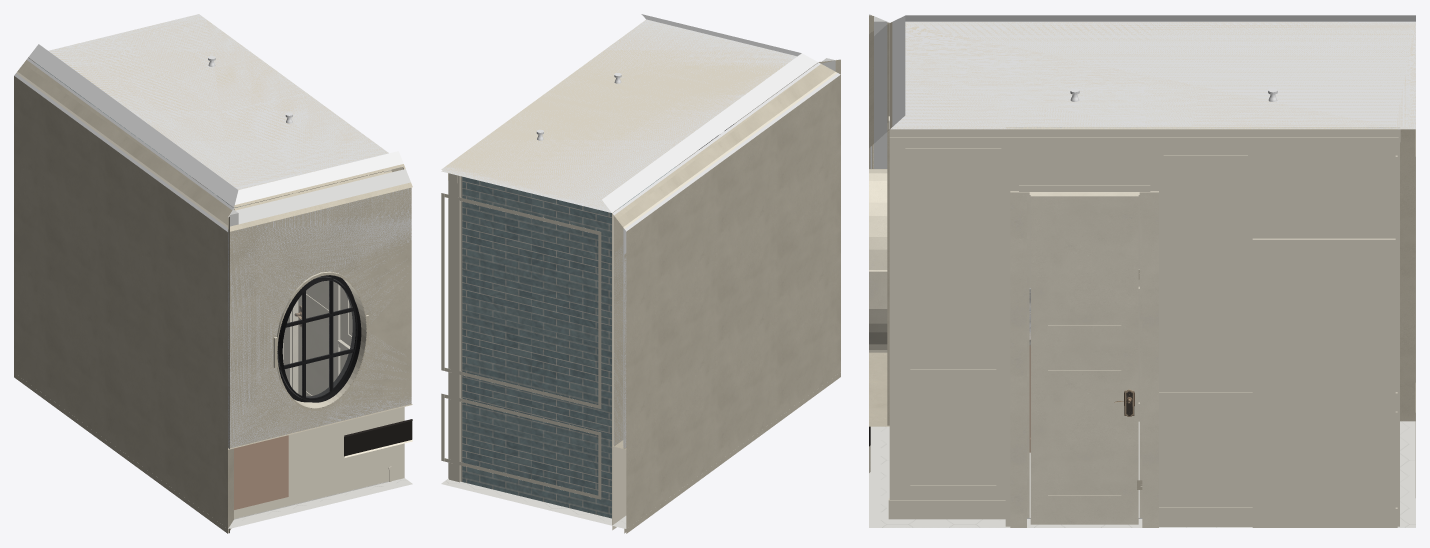
The model's file is blue-bath-d5b67d9eb3cf.glb.
3 renders of one model, left to right at view 1: azimuth 30°, elevation 25°; view 2: azimuth 150°, elevation 25°; view 3: azimuth 270°, elevation 25°, orthographic. The views are drawn at different scales.
Parts seen in each view (by area): view 1: blue-bath-312b4ac1be39223d, blue-bath-bddaf205afbd60c0, blue-bath-9d91b47435c6fb33, blue-bath-e8793759323e04f0, blue-bath-33ee0b466567e5f0, blue-bath-df3e1f21720b0c39, blue-bath-2f7d8eff34a2c180, blue-bath-99b308e00d07c4e6, blue-bath-39b94aca90fa4b53, blue-bath-c700045fb7c0d89d, blue-bath-bb2a37e95c56944b, blue-bath-bf159a19de53e60e (+9 smaller); view 2: blue-bath-312b4ac1be39223d, blue-bath-81319d6284883901, blue-bath-e8793759323e04f0, blue-bath-9d91b47435c6fb33, blue-bath-33ee0b466567e5f0, blue-bath-39b94aca90fa4b53, blue-bath-ed5fdcd3ee9c0dd5, blue-bath-3a4d9d62ecd7be1c, blue-bath-06754748489735a0, blue-bath-6e269356ae8bfd70, blue-bath-b63ee86b16afd4c0, blue-bath-0e16aad907f7d881 (+1 smaller); view 3: blue-bath-9d91b47435c6fb33, blue-bath-ed5fdcd3ee9c0dd5, blue-bath-ead09a0b3f9e3bd9, blue-bath-3e649b0d114ae387, blue-bath-bf159a19de53e60e, blue-bath-e8793759323e04f0, blue-bath-8798d08755b4aa77, blue-bath-8f5d8501f6e548f5, blue-bath-0e16aad907f7d881, blue-bath-6e269356ae8bfd70, blue-bath-5d66057253f4bb38, blue-bath-e55ba151bf6688a8 (+13 smaller).
Boxes of the visible parts, bbox=[...] form: blue-bath-312b4ac1be39223d: bbox=[14, 73, 229, 449]; blue-bath-bddaf205afbd60c0: bbox=[230, 182, 411, 447]; blue-bath-9d91b47435c6fb33: bbox=[28, 14, 404, 207]; blue-bath-e8793759323e04f0: bbox=[30, 14, 403, 204]; blue-bath-33ee0b466567e5f0: bbox=[14, 293, 228, 533]; blue-bath-df3e1f21720b0c39: bbox=[229, 184, 412, 448]; blue-bath-2f7d8eff34a2c180: bbox=[228, 404, 412, 533]; blue-bath-99b308e00d07c4e6: bbox=[278, 277, 354, 397]; blue-bath-39b94aca90fa4b53: bbox=[17, 60, 238, 226]; blue-bath-c700045fb7c0d89d: bbox=[277, 275, 366, 402]; blue-bath-bb2a37e95c56944b: bbox=[234, 435, 288, 509]; blue-bath-bf159a19de53e60e: bbox=[298, 183, 335, 396]; blue-bath-312b4ac1be39223d: bbox=[624, 59, 840, 449]; blue-bath-81319d6284883901: bbox=[462, 177, 611, 518]; blue-bath-e8793759323e04f0: bbox=[441, 14, 815, 210]; blue-bath-9d91b47435c6fb33: bbox=[442, 19, 817, 212]; blue-bath-33ee0b466567e5f0: bbox=[612, 293, 840, 533]; blue-bath-39b94aca90fa4b53: bbox=[614, 58, 835, 447]; blue-bath-ed5fdcd3ee9c0dd5: bbox=[449, 173, 460, 482]; blue-bath-3a4d9d62ecd7be1c: bbox=[612, 61, 821, 446]; blue-bath-06754748489735a0: bbox=[441, 193, 601, 408]; blue-bath-6e269356ae8bfd70: bbox=[441, 170, 618, 524]; blue-bath-b63ee86b16afd4c0: bbox=[441, 393, 601, 499]; blue-bath-0e16aad907f7d881: bbox=[441, 478, 626, 528]; blue-bath-9d91b47435c6fb33: bbox=[890, 21, 1415, 129]; blue-bath-ed5fdcd3ee9c0dd5: bbox=[1005, 127, 1399, 527]; blue-bath-ead09a0b3f9e3bd9: bbox=[1252, 238, 1395, 527]; blue-bath-3e649b0d114ae387: bbox=[889, 121, 1005, 527]; blue-bath-bf159a19de53e60e: bbox=[1030, 195, 1138, 524]; blue-bath-e8793759323e04f0: bbox=[892, 15, 1415, 126]; blue-bath-8798d08755b4aa77: bbox=[1010, 191, 1158, 527]; blue-bath-8f5d8501f6e548f5: bbox=[889, 129, 1398, 146]; blue-bath-0e16aad907f7d881: bbox=[869, 421, 1415, 527]; blue-bath-6e269356ae8bfd70: bbox=[1398, 127, 1415, 527]; blue-bath-5d66057253f4bb38: bbox=[905, 148, 1001, 374]; blue-bath-e55ba151bf6688a8: bbox=[869, 169, 887, 352].
Bounding box in the file's own units: 1.8 × 3.04 × 3.6.
Materials: 34 (6 with a texture image).
